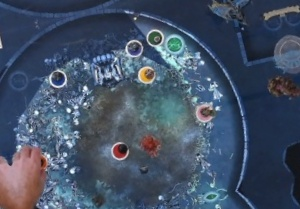blue: (44, 65, 70, 90)
green: (142, 25, 168, 50)
orange: (28, 150, 50, 173)
pink: (189, 99, 217, 127)
red: (106, 136, 132, 165)
violet: (122, 36, 144, 59)
yellow: (130, 61, 159, 88)
